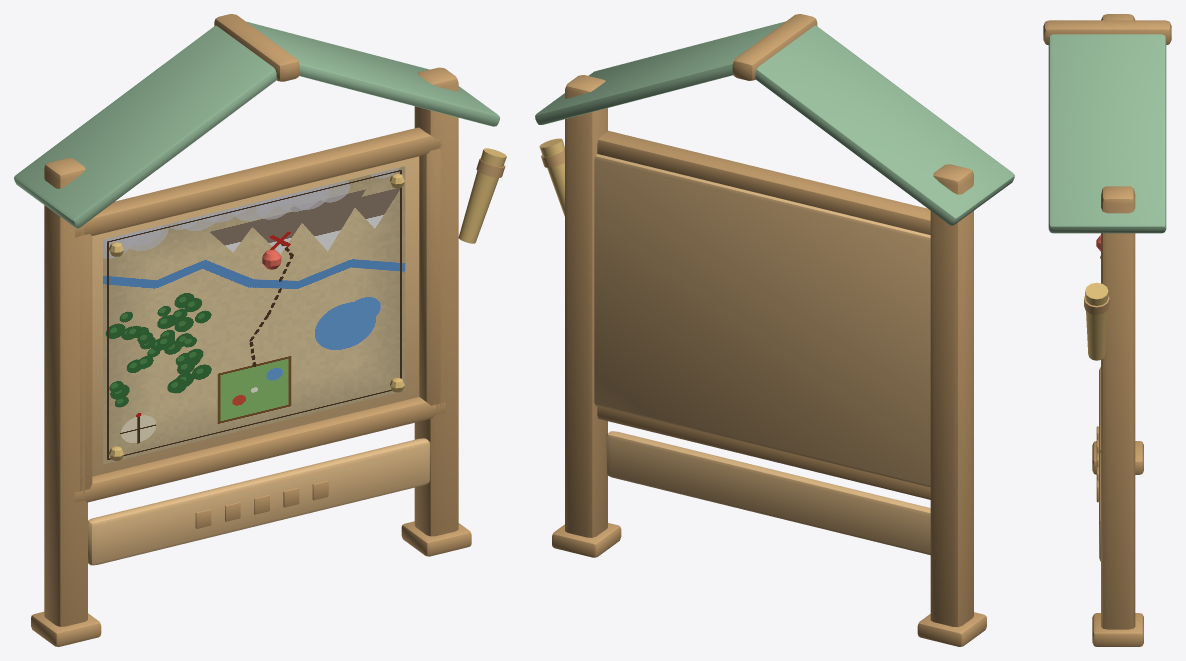
Rendered from fence-map-board.glb.
3 renders of one model, left to right at view 1: azimuth 30°, elevation 25°; view 2: azimuth 150°, elevation 25°; view 3: azimuth 270°, elevation 25°, orthographic. The views are drawn at different scales.
Visible parts, largest first — view 1: MapPaper, Roof.002, Post, Plank_sign, Board_back, Post.001, Frame_top, Frame_bot, Roof.003, Frame_r, Frame_l, Roof_ridge.001 (+5 smaller); view 2: Board_back, Roof.002, Post, Plank_sign, Post.001, Frame_top, Roof.003, Frame_bot, Roof_ridge.001, Post_foot.001, Post_foot, Spyglass; view 3: Roof.003, Post.001, Roof_ridge.001, Spyglass, Post_foot.001, Post_foot, Plank_sign, Spyglass_band, Sign_marks, Post.
Boxes of the visible parts, box(x1,y1,x2,y2) form: MapPaper: box(103, 166, 405, 464); Roof.002: box(14, 25, 276, 228); Post: box(44, 158, 87, 626); Plank_sign: box(88, 438, 430, 565); Board_back: box(92, 156, 419, 476); Post.001: box(414, 67, 458, 536); Frame_top: box(75, 127, 442, 237); Frame_bot: box(75, 397, 445, 502); Roof.003: box(246, 21, 499, 126); Frame_r: box(419, 148, 440, 405); Frame_l: box(80, 234, 92, 491); Roof_ridge.001: box(214, 14, 299, 81); Board_back: box(594, 154, 930, 487); Roof.002: box(755, 25, 1014, 225); Post: box(930, 164, 973, 626); Plank_sign: box(606, 431, 930, 555); Post.001: box(565, 75, 607, 537); Frame_top: box(597, 130, 930, 234); Roof.003: box(535, 21, 785, 124); Frame_bot: box(597, 406, 930, 499); Roof_ridge.001: box(732, 14, 817, 80); Post_foot.001: box(552, 523, 621, 557); Post_foot: box(917, 612, 986, 646); Spyglass: box(539, 138, 564, 216); Roof.003: box(1048, 34, 1166, 233); Post.001: box(1101, 186, 1135, 629); Roof_ridge.001: box(1043, 20, 1171, 44); Spyglass: box(1085, 282, 1108, 360); Post_foot.001: box(1092, 613, 1143, 646); Post_foot: box(1092, 441, 1143, 474); Plank_sign: box(1099, 367, 1100, 561); Spyglass_band: box(1084, 295, 1109, 314); Sign_marks: box(1096, 426, 1098, 502); Post: box(1101, 14, 1134, 20).
Size of the model in its own units: 2.34 by 2.72 by 0.6.
Materials: 6 (1 with a texture image).
